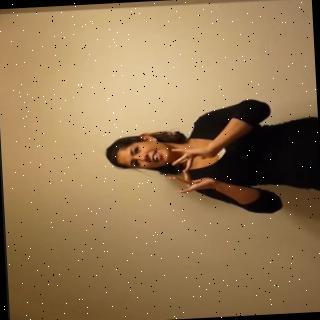Internet: (104, 95, 318, 222)
